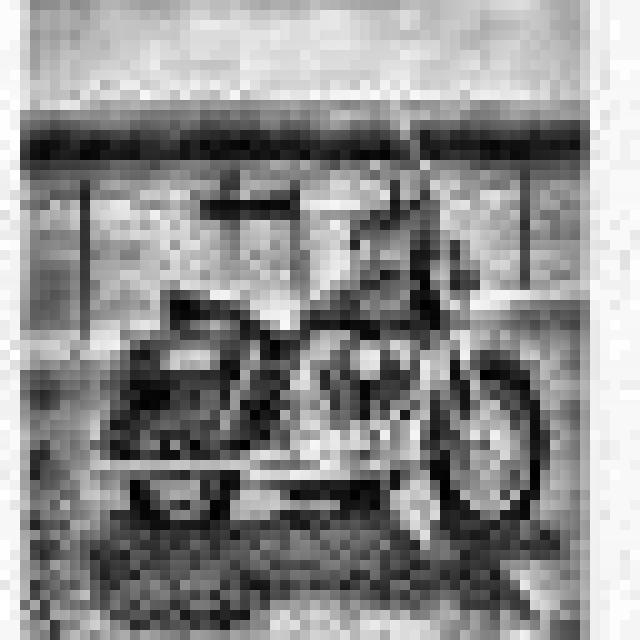mopeds: (77, 200, 550, 546)
